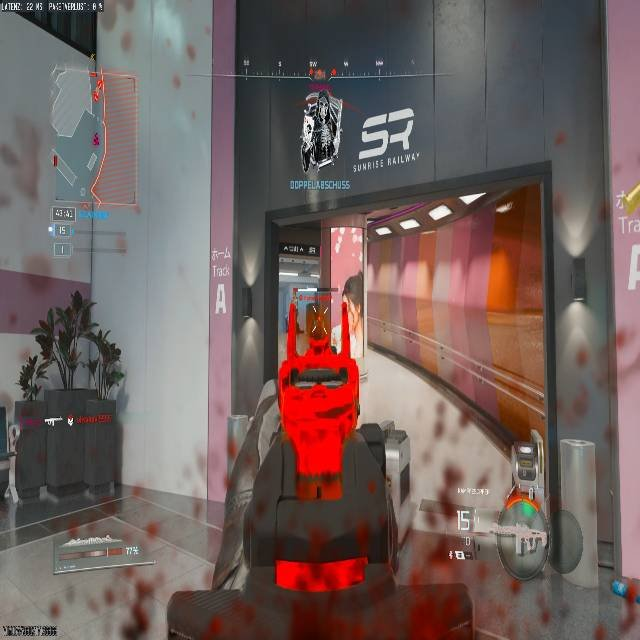player: (18, 289, 125, 404)
